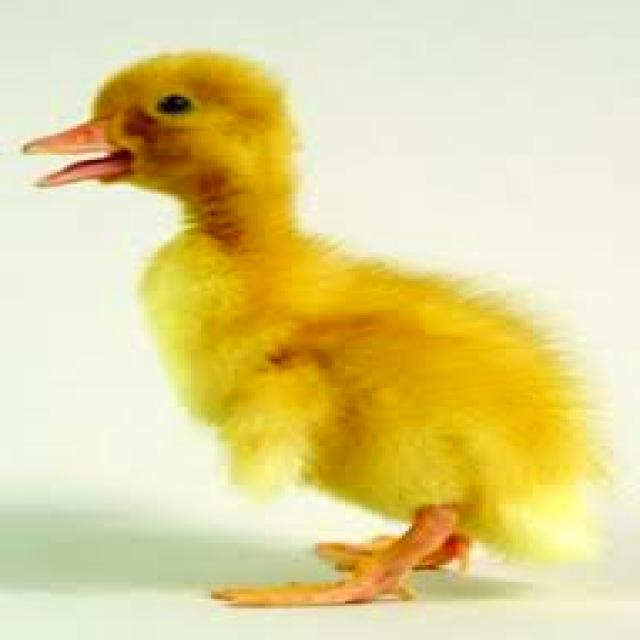duck: (27, 53, 600, 604)
